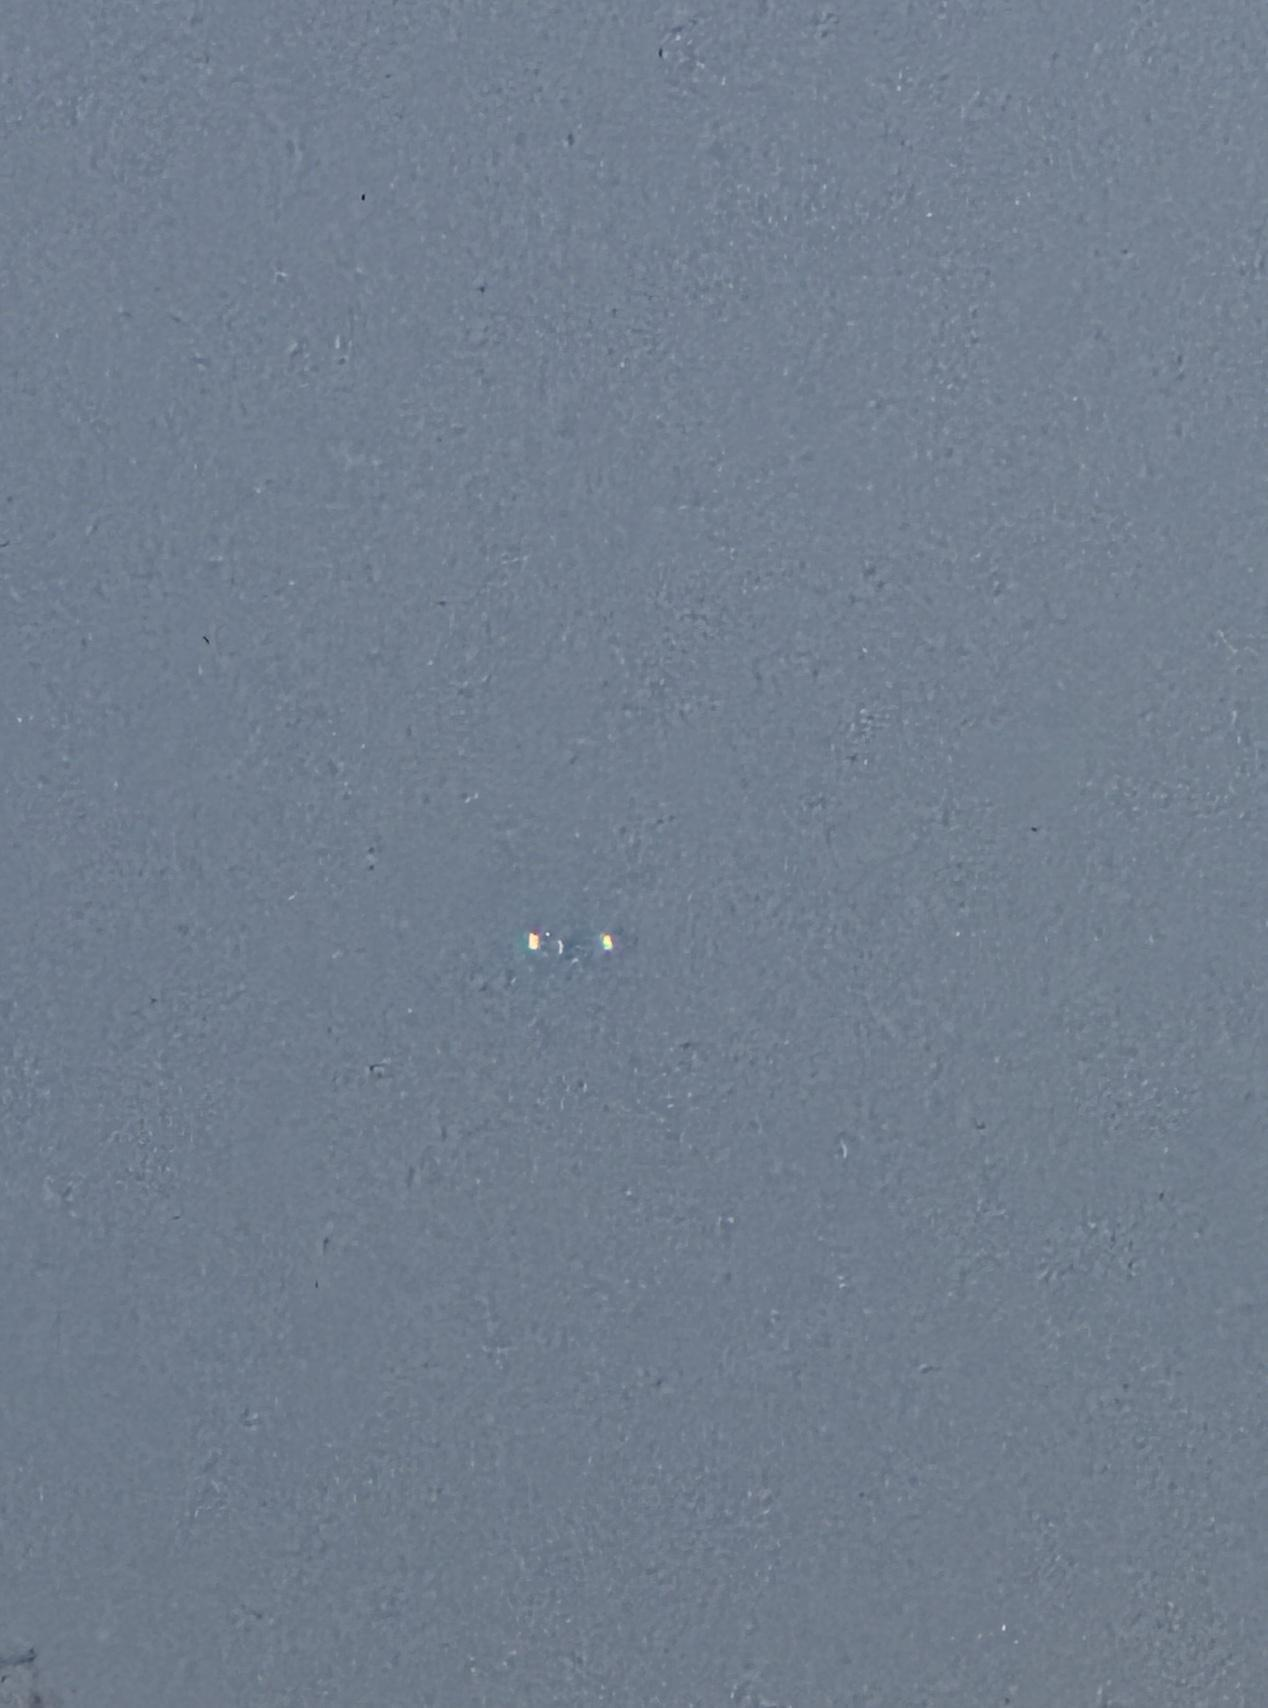Plane: (478, 915, 637, 972)
